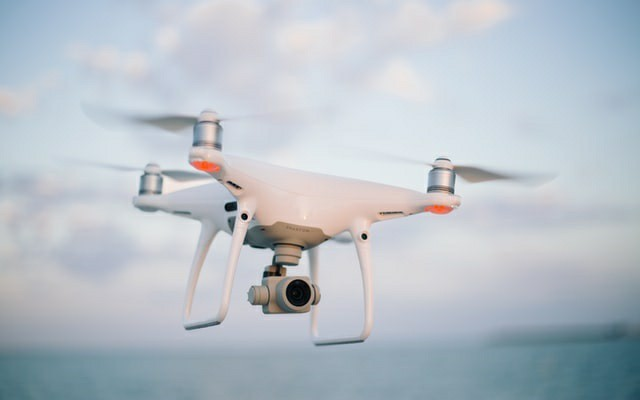maybay_khongnguoilai: (89, 94, 502, 341)
